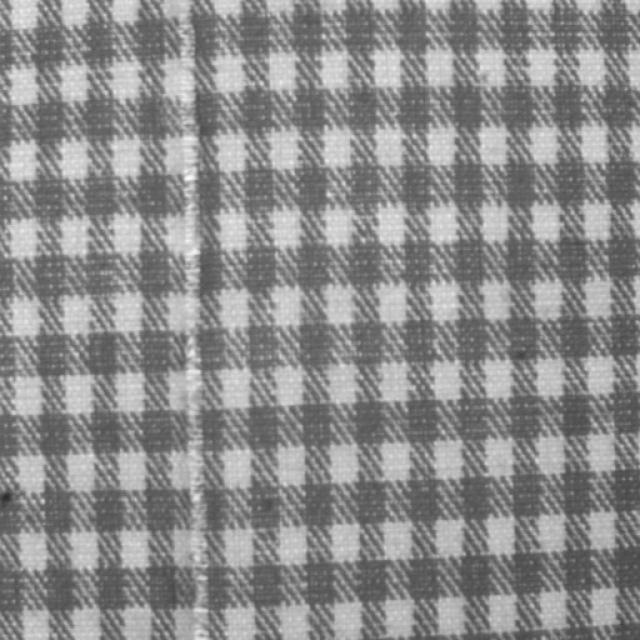Thread-Defect: (182, 2, 209, 639)
